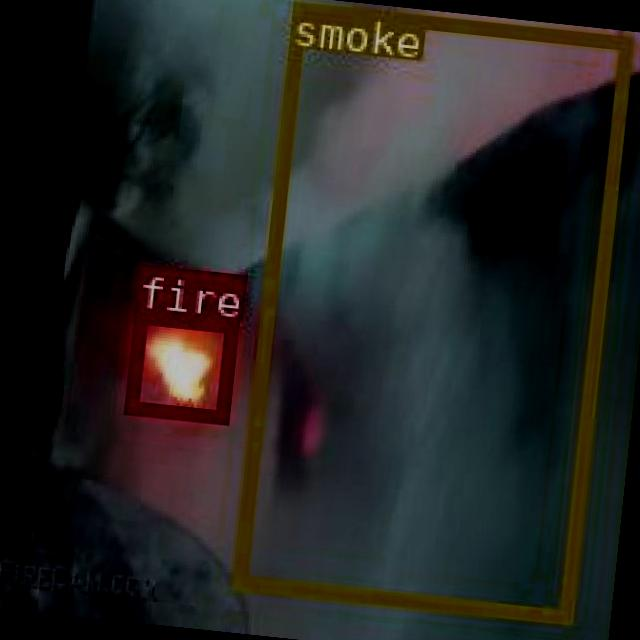fire: (122, 306, 236, 421)
smoke: (229, 0, 630, 621)
